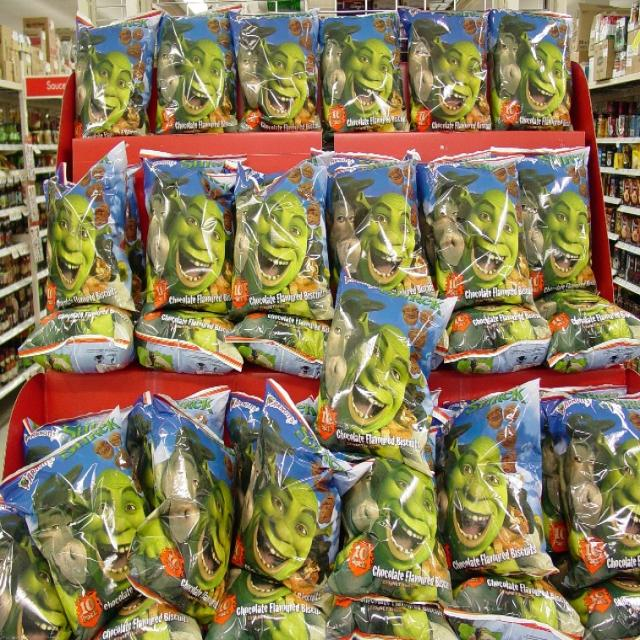q214: (12, 396, 143, 630), (139, 404, 229, 606), (244, 392, 337, 587), (449, 392, 548, 562), (326, 282, 421, 445), (237, 163, 331, 320), (42, 171, 140, 316), (561, 396, 640, 575), (353, 447, 447, 597), (144, 162, 229, 316), (425, 152, 520, 286), (330, 160, 423, 284), (526, 152, 600, 293), (75, 9, 154, 141), (235, 13, 322, 131), (160, 0, 232, 130), (414, 8, 481, 132), (330, 9, 402, 122), (494, 13, 564, 120)
